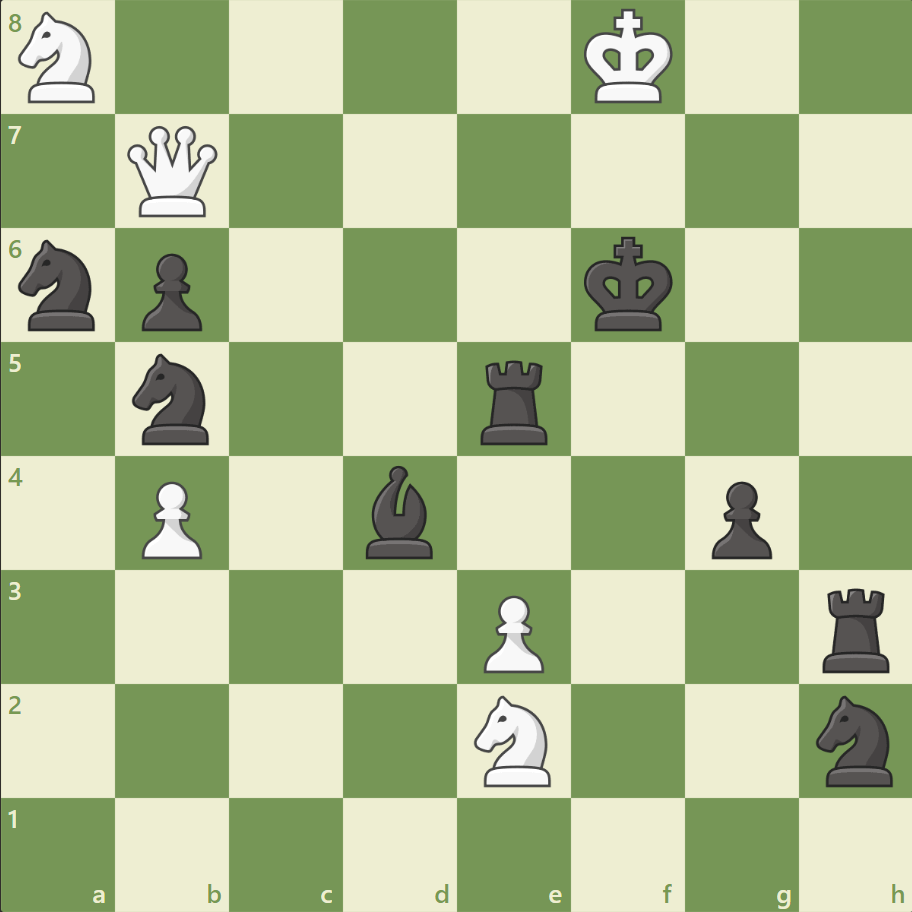K: (579, 4, 679, 112)
N: (11, 7, 108, 110), (465, 688, 562, 791)
P: (133, 473, 208, 564), (474, 586, 549, 677)
Q: (124, 122, 223, 222)
b: (358, 460, 442, 563)
k: (579, 231, 679, 339)
n: (124, 348, 222, 450), (11, 234, 108, 337), (806, 688, 903, 791)
p: (133, 246, 208, 337), (701, 473, 776, 564)
r: (473, 352, 556, 449), (814, 579, 897, 676)
